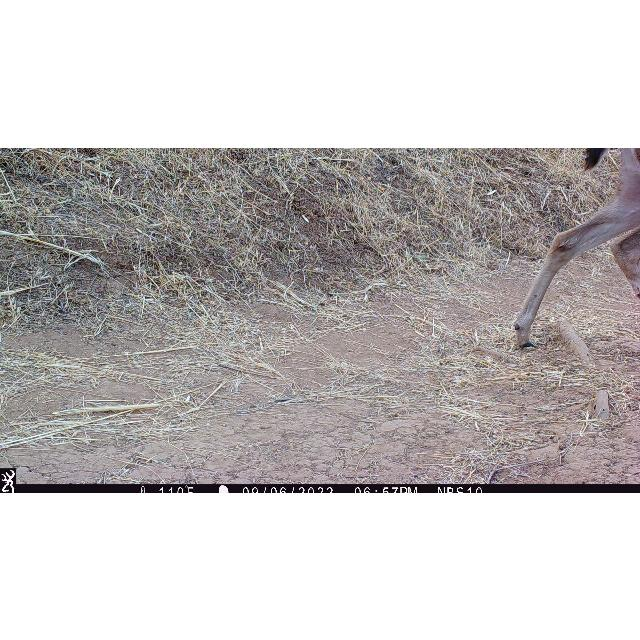animals: (512, 147, 640, 351)
